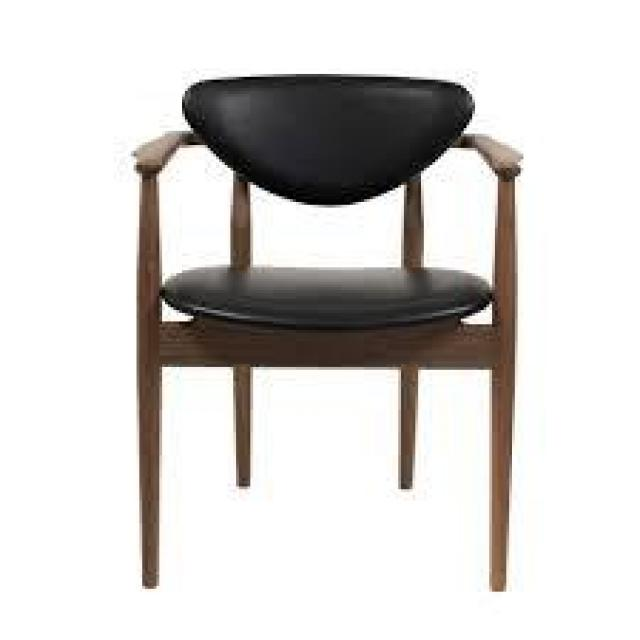chair: (102, 58, 560, 588)
